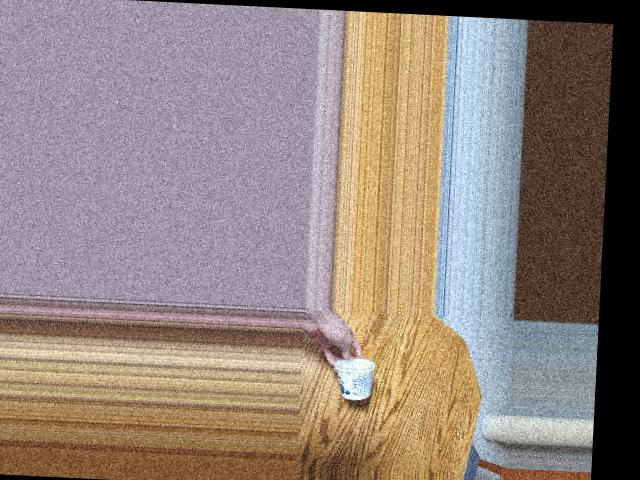cotage: (330, 354, 375, 399)
